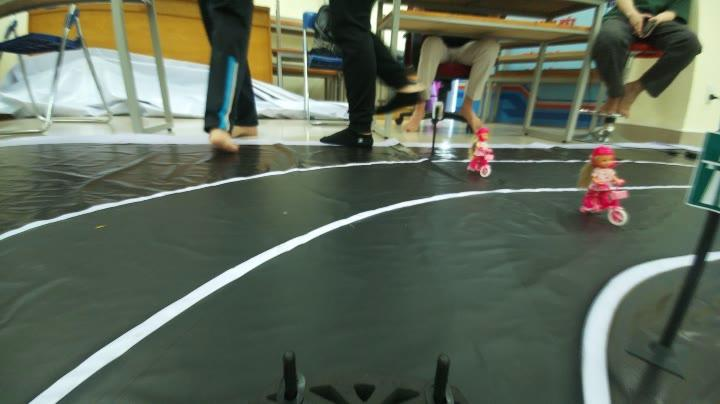highway_entry: (680, 126, 720, 216)
pedestrian: (569, 141, 634, 228), (457, 122, 502, 180)
